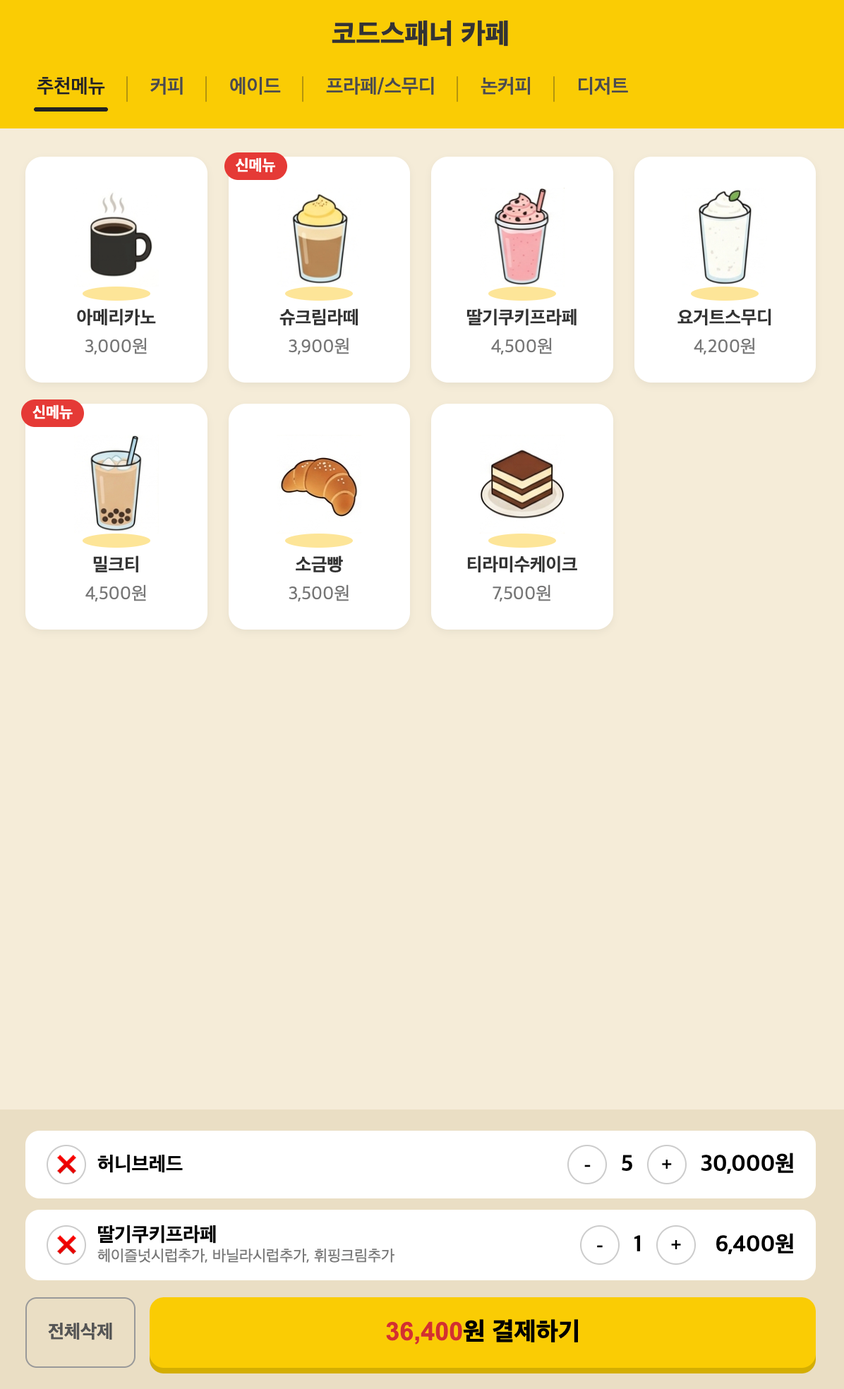action_button: (149, 1297, 814, 1374), (26, 1298, 136, 1369)
cart_item: (25, 1210, 813, 1279), (25, 1132, 813, 1200)
category_tab: (326, 76, 436, 97), (37, 75, 106, 97), (229, 75, 282, 95), (576, 76, 629, 96), (481, 75, 531, 96), (150, 76, 185, 96)
menu_back: (634, 155, 817, 382), (228, 156, 411, 383), (26, 403, 208, 630), (432, 155, 614, 382), (227, 403, 409, 630), (431, 403, 613, 630), (25, 156, 207, 383)
menu_name: (467, 308, 578, 327), (467, 555, 578, 574), (677, 308, 772, 326), (279, 307, 359, 327), (76, 308, 156, 326), (295, 554, 344, 573), (93, 555, 141, 573)
menu_price: (490, 584, 553, 603), (84, 337, 148, 355), (490, 337, 554, 355), (693, 337, 756, 355), (288, 584, 351, 602), (85, 584, 148, 602), (287, 337, 350, 355)
